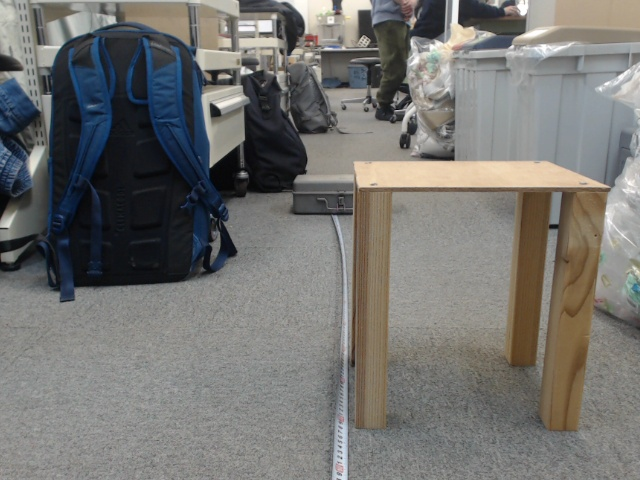desk: (259, 177, 485, 441)
